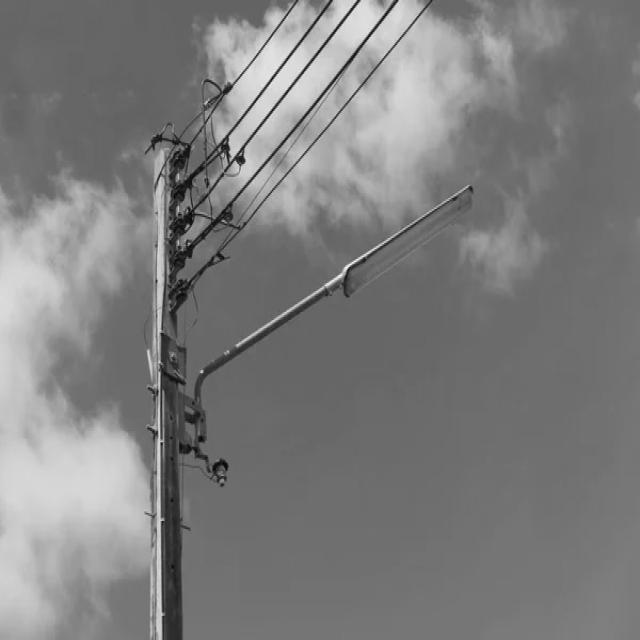Pole: (150, 148, 182, 640)
